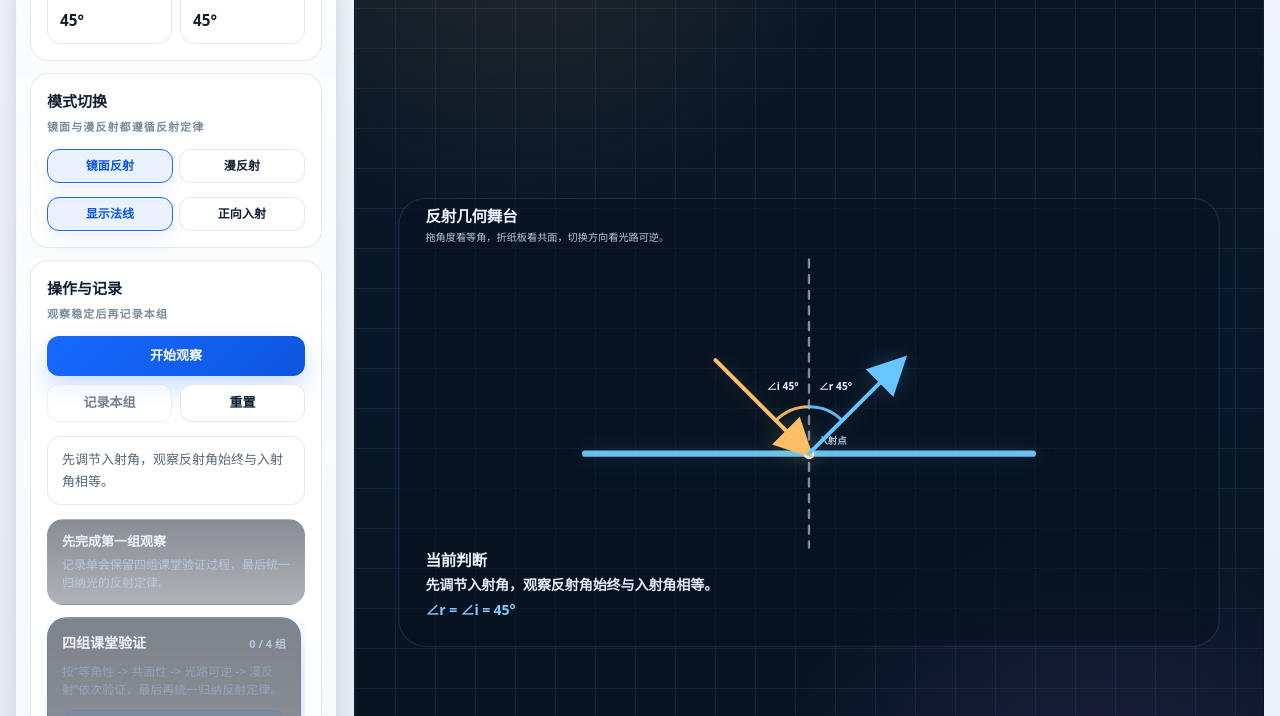
LightReflectionLab › only unlocks recording after the observation settles
The image size is (1280, 716).
(page scrolled)
What coordinates should you click on to do the following:
click the button "开始观察"
I would click on:
 (176, 356)
Its box is [47,336,305,376].
Wait 1000 ms
(page scrolled)
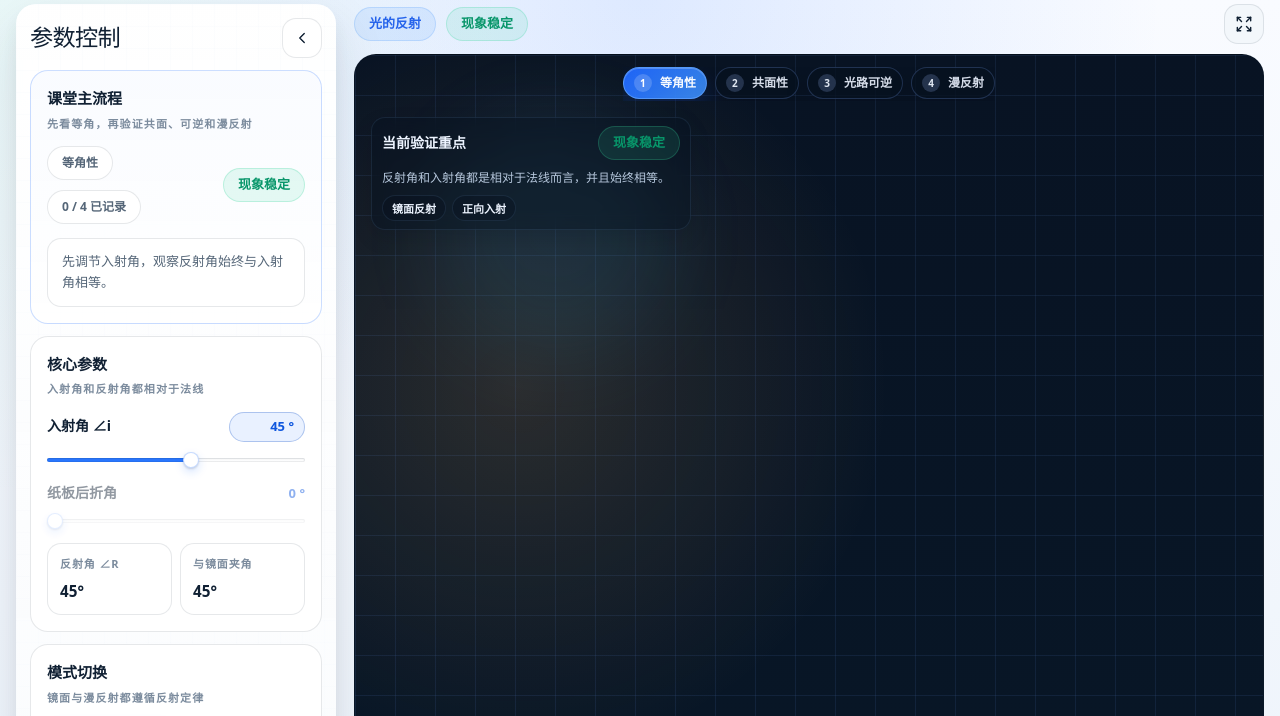
Expected: the text "现象稳定" next to "0 / 4 已记录" is shown, [238,175,290,193]
